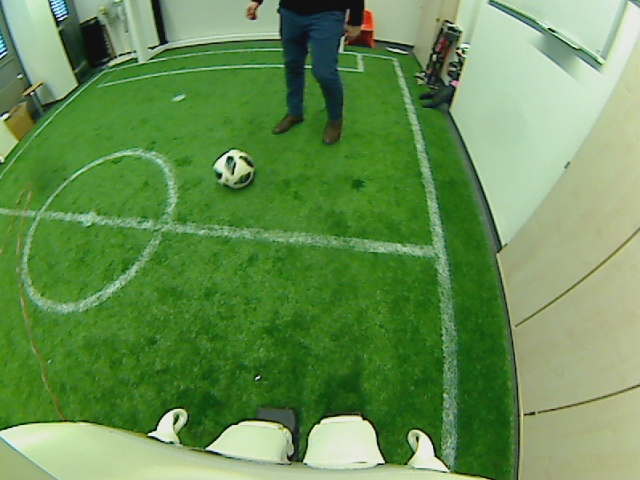ball: (212, 147, 254, 189)
